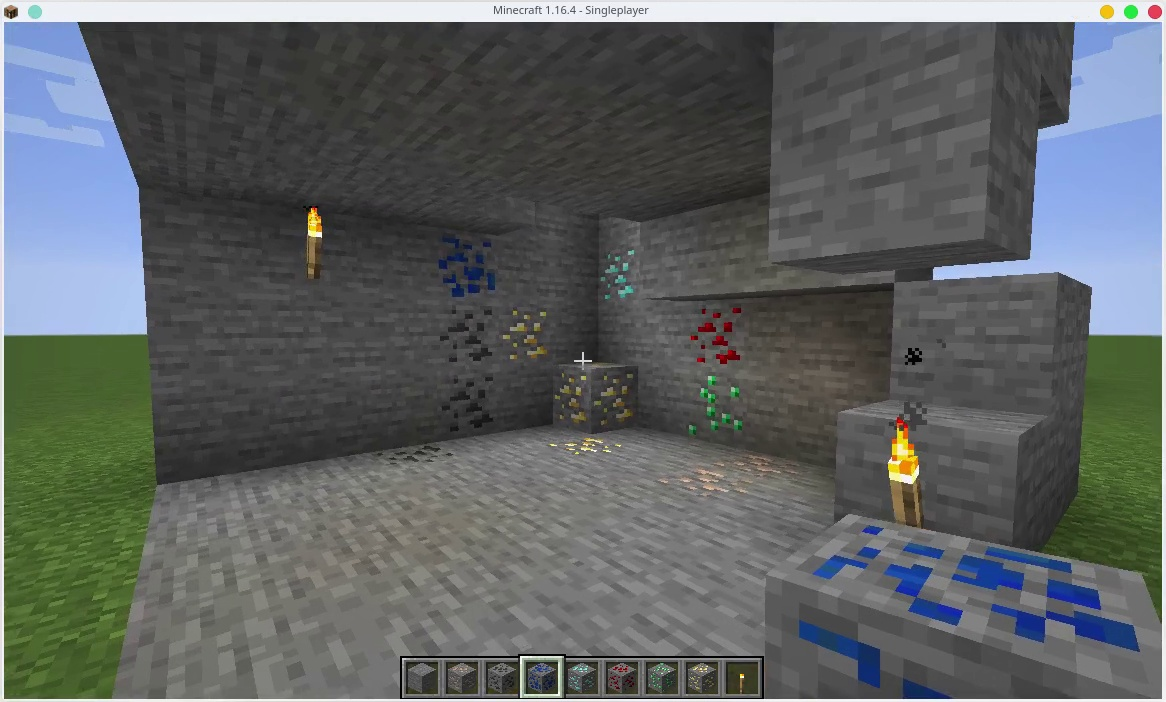gold: (553, 358, 637, 429), (499, 311, 551, 361), (552, 434, 633, 460), (685, 665, 721, 698)
